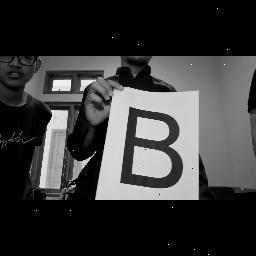b: (120, 100, 188, 194)
